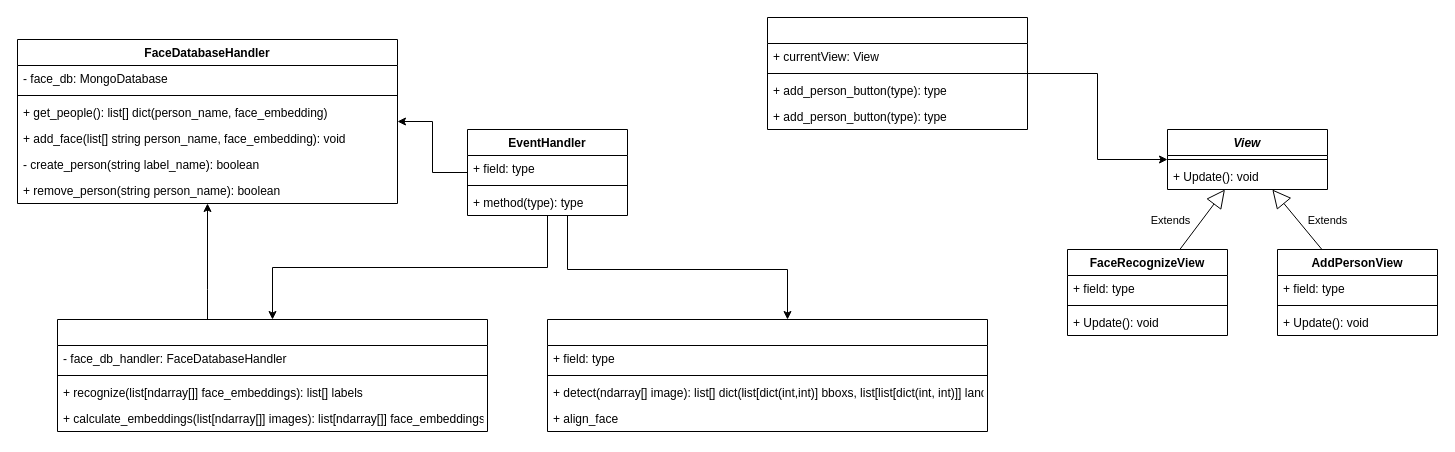
The diagram is 1455 pixels wide and 452 high, and some of its shapes have lost their labels. The shapes that lost their labels are listed below. From the top down, each one's box as (x1, y1, x2, y2) in pixels, then its label:
(766, 16, 1028, 130): app
(56, 318, 488, 432): FaceRecognizer
(546, 318, 988, 432): FaceDetector
